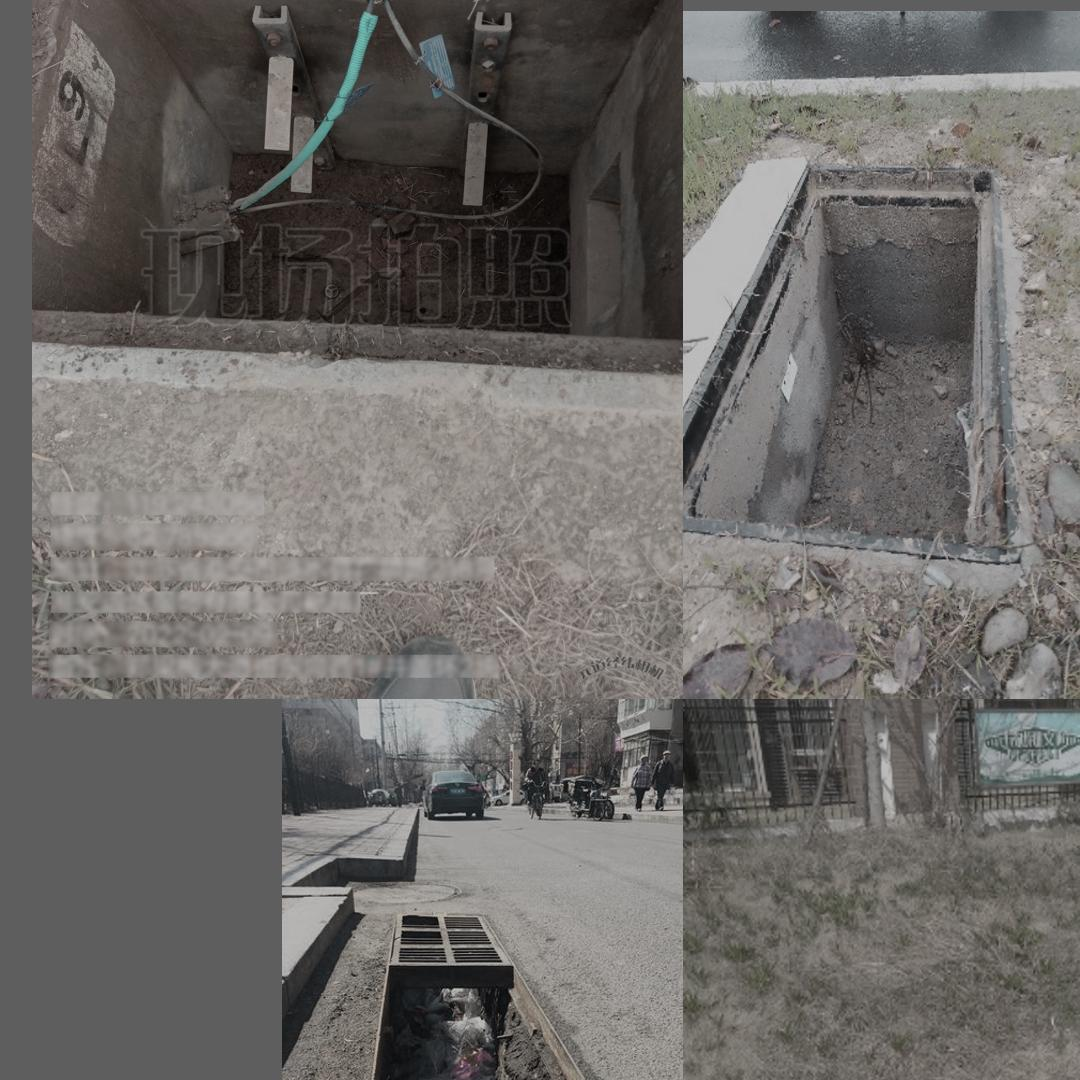lose: (35, 0, 683, 375), (683, 150, 1013, 546), (338, 966, 597, 1080)
